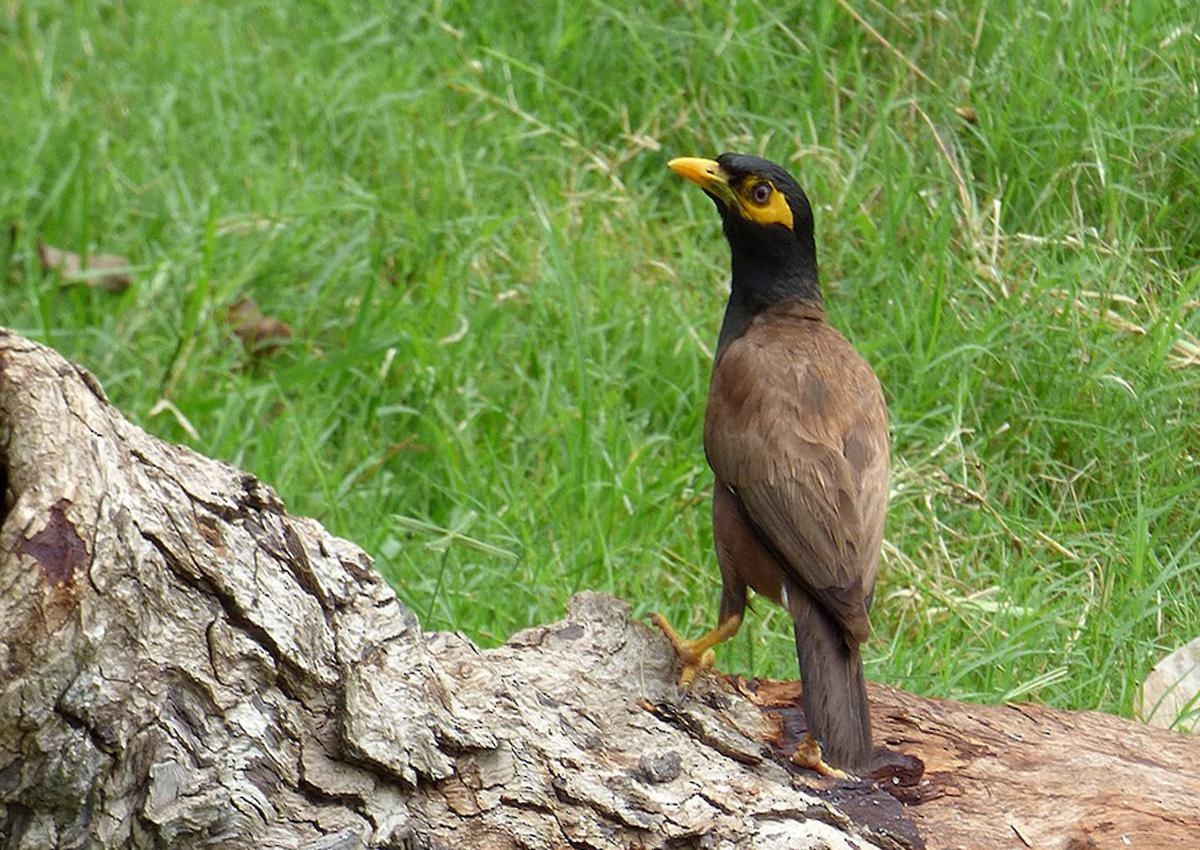myna: (625, 87, 989, 739)
